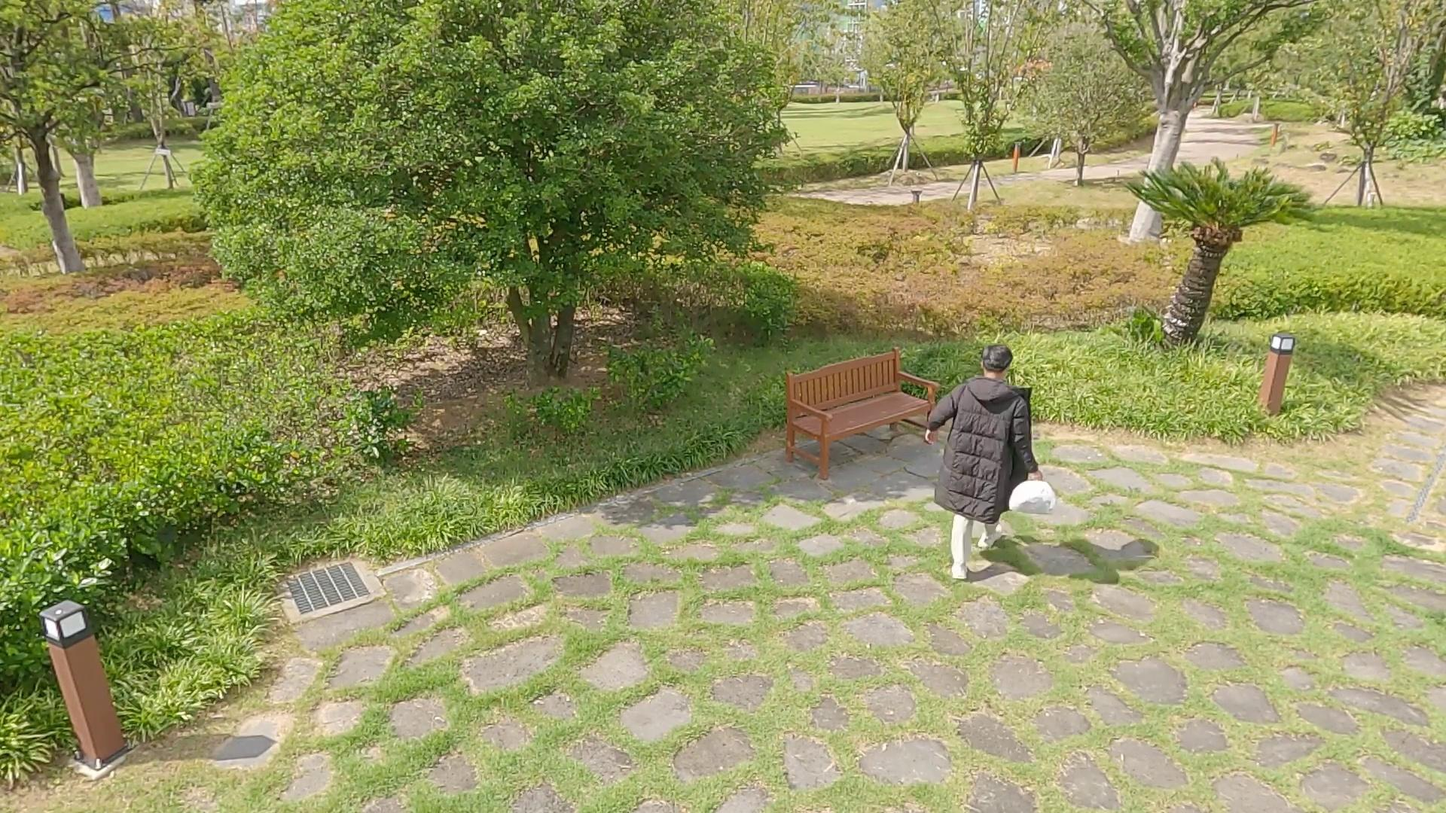person: (926, 337, 1050, 585)
trash: (1007, 477, 1061, 519)
